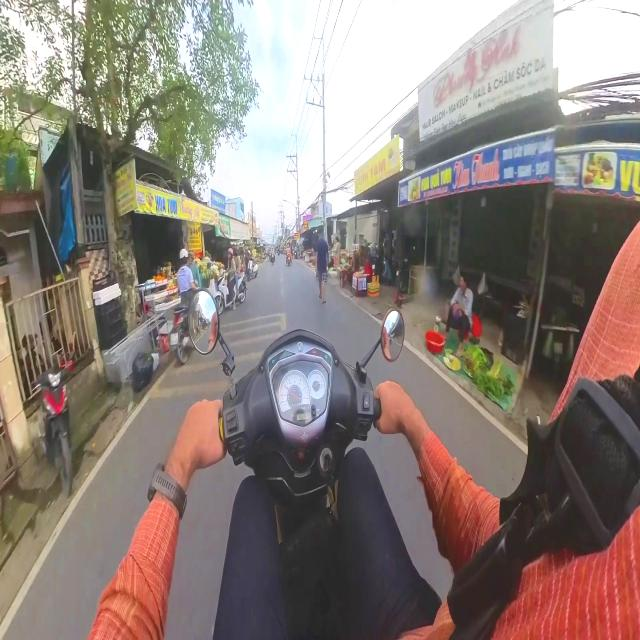motorcycle: (192, 309, 404, 637), (36, 368, 72, 497), (169, 303, 191, 364), (215, 271, 233, 314), (246, 259, 258, 280), (286, 254, 291, 266), (270, 254, 275, 264)
